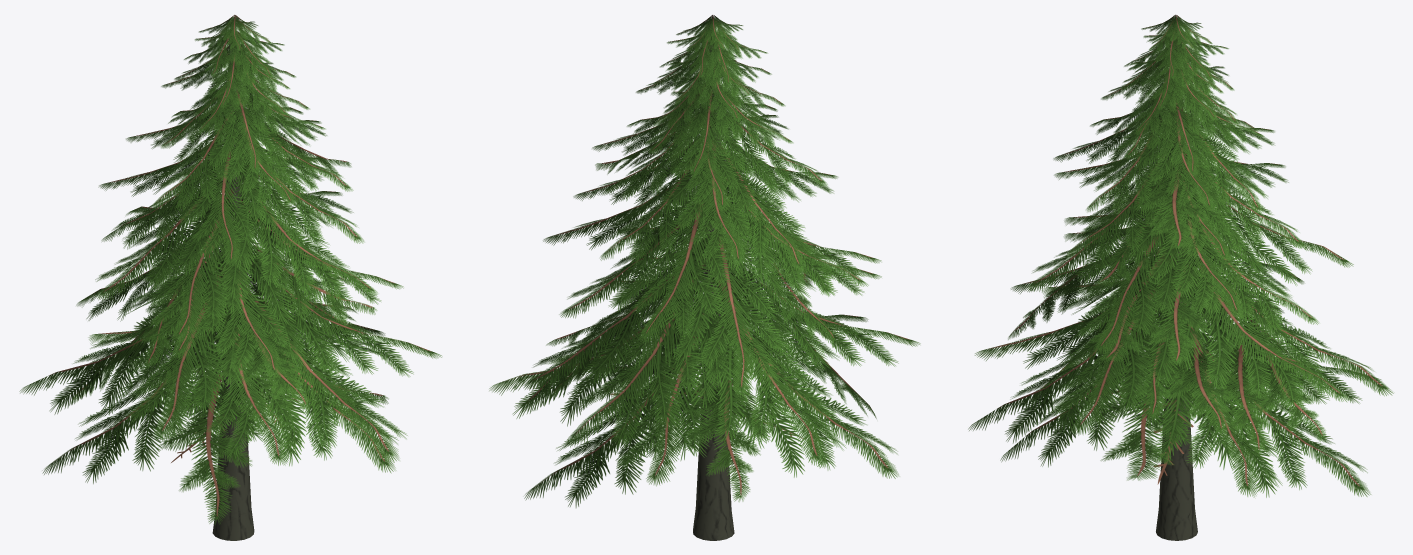
File: pino.glb
3 views of the same model, side by side, from view 1: azimuth 30°, elevation 25°; view 2: azimuth 150°, elevation 25°; view 3: azimuth 270°, elevation 25° (orthographic).
Visible parts, largest first — view 1: Branches, Trunk; view 2: Branches, Trunk; view 3: Branches, Trunk.
Part boxes in pixels (<box>): Branches: <box>19,15,442,524</box>; Trunk: <box>212,31,254,540</box>; Branches: <box>489,15,920,507</box>; Trunk: <box>693,45,734,540</box>; Branches: <box>968,14,1393,497</box>; Trunk: <box>1156,45,1197,540</box>.
Size of the model in its own units: 58.35 by 75 by 57.27.
2 materials, 2 textured.
